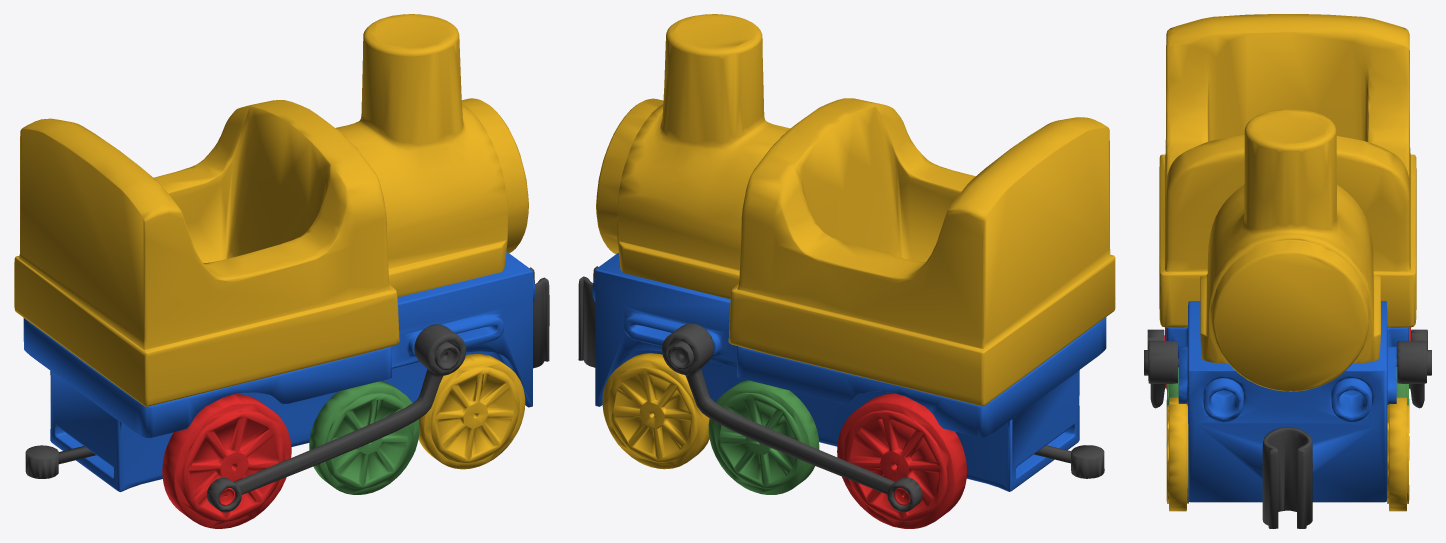
The model's file is train_vagone1_LOD0.fbx.
3 views of the same model, side by side, from view 1: azimuth 30°, elevation 25°; view 2: azimuth 150°, elevation 25°; view 3: azimuth 270°, elevation 25° (orthographic). The views are drawn at different scales.
Visible parts, largest first — view 1: train engine; view 2: train engine; view 3: train engine.
Boxes of the visible parts, box(x1,y1,x2,y2) form: train engine: box(14, 14, 549, 528); train engine: box(578, 14, 1115, 528); train engine: box(1144, 14, 1431, 528).
Size of the model in its own units: 250 by 182 by 125.
